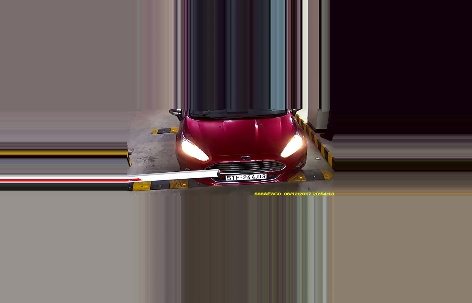plate: (224, 171, 266, 181)
